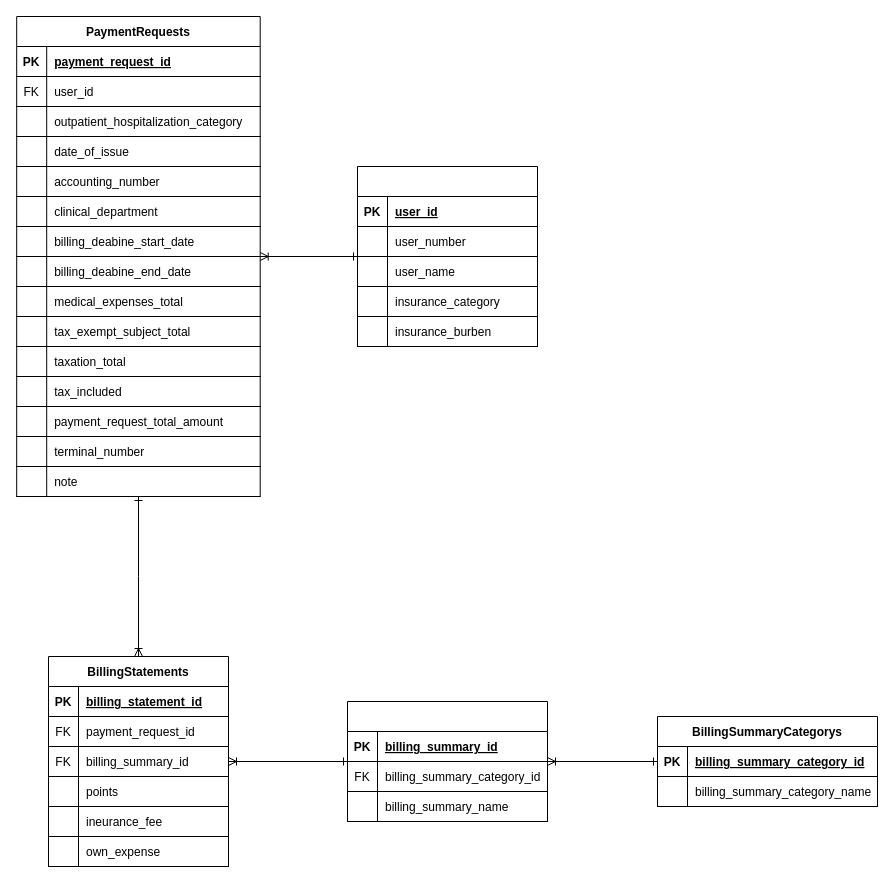
Some shapes in this 894 by 883 pixel diagram are drawn without their labels. The shapes that lost their labels are listed below. From the top down, each one's box as (x1, y1, x2, y2) in pixels, then its label:
(356, 166, 538, 346): Users
(346, 700, 548, 822): BillingSummaries
